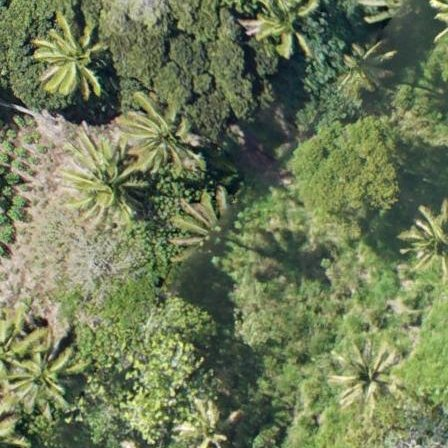palm_tree: (53, 129, 144, 226), (319, 323, 404, 414), (28, 10, 111, 99), (118, 88, 200, 175), (5, 339, 89, 411), (249, 1, 323, 53), (337, 40, 398, 95), (405, 202, 448, 279)
